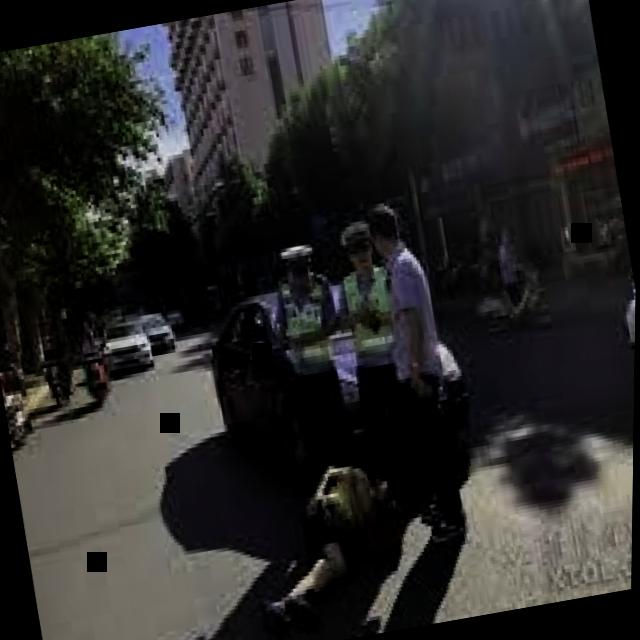Fall-Detected: (220, 422, 430, 640)
